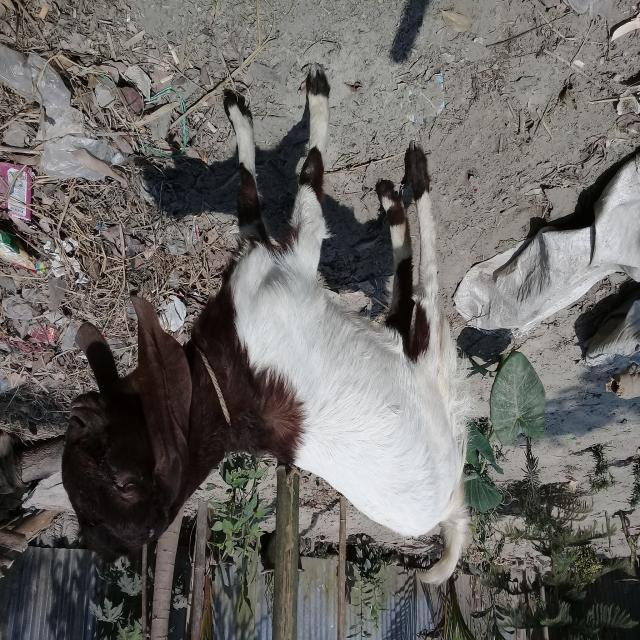Goat: (60, 63, 476, 588)
